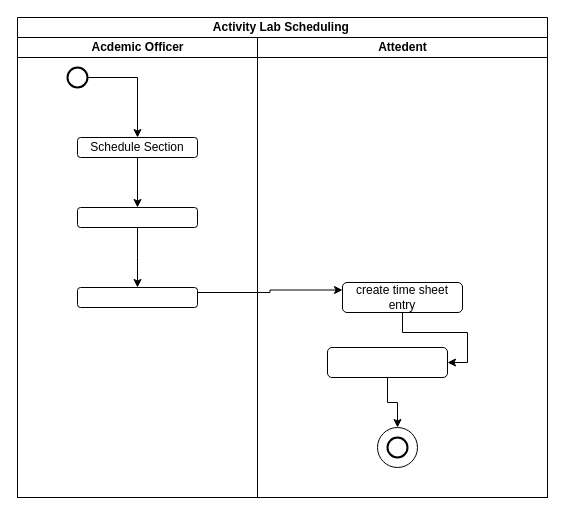
The diagram is 565 pixels wide and 515 high, and some of its shapes have lost their labels. Each missing label, with the centre of its shape:
Lab Scheduled: (x=137, y=297)
Schedule lab: (x=137, y=217)
time sheet entry created: (x=387, y=362)
